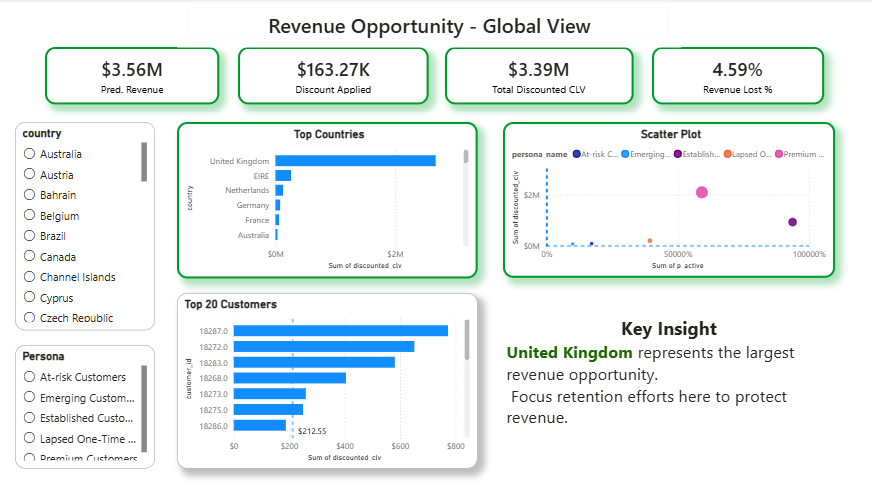

What the dashboard file says about the page in this screenshot:
{"tool":"powerbi","page":{"name":"Revenue Opportunity","canvas":[1280,720],"ordinal":2},"visuals":[{"type":"cardVisual","fields":{"Data":["powerbi fact_customers.Total Predicted Revenue"]},"box":[65.5,70.7,255.2,84.5],"z":0},{"type":"cardVisual","fields":{"Data":["powerbi fact_customers.Discount Applied"]},"box":[348.3,70.7,279.3,84.5],"z":1000},{"type":"cardVisual","fields":{"Data":["powerbi fact_customers.Total Discounted CLV"]},"box":[651.7,70.7,275.9,84.5],"z":2000},{"type":"cardVisual","fields":{"Data":["powerbi fact_customers.Revenue Lost %"]},"box":[953.4,70.7,251.7,84.5],"z":3000},{"type":"clusteredBarChart","title":"Top 20 Customers","fields":{"Category":["powerbi fact_customers.customer_id"],"Y":["Sum(powerbi fact_customers.discounted_clv)"]},"box":[258.7,430.2,439.7,257.1],"z":4000},{"type":"clusteredBarChart","title":"Top Countries","fields":{"Category":["powerbi fact_customers.country"],"Y":["Sum(powerbi fact_customers.discounted_clv)"]},"box":[258.7,179.4,439.7,228.6],"z":5000},{"type":"scatterChart","title":"Scatter Plot","fields":{"X":["Sum(powerbi fact_customers.p_active)"],"Y":["Sum(powerbi fact_customers.discounted_clv)"],"Series":["powerbi fact_customers.persona_name"],"Size":["Sum(powerbi fact_customers.predicted_revenue)"]},"box":[736.1,180,485.9,228.3],"z":6000},{"type":"cardVisual","fields":{"Data":["Measures (2).Revenue Opportunity Title"]},"box":[258.6,0,737.9,70.7],"z":7000},{"type":"textbox","box":[736.5,458.7,485.7,188.9],"z":8000},{"type":"listSlicer","fields":{"Values":["powerbi fact_customers.country"]},"box":[22.2,179.4,204.8,304.8],"z":9000},{"type":"listSlicer","title":"Persona","fields":{"Values":["powerbi fact_customers.persona_name"]},"box":[22.2,506.3,204.8,181],"z":10000}]}

Visuals, with their boxes in screenshot pixels (x1, y1, x2, y2), scaled from the page's 1280x720 canvas onto the 872x490 screenshot:
cardVisual - powerbi fact_customers.Total Predicted Revenue: <bbox>45, 48, 218, 106</bbox>
cardVisual - powerbi fact_customers.Discount Applied: <bbox>237, 48, 428, 106</bbox>
cardVisual - powerbi fact_customers.Total Discounted CLV: <bbox>444, 48, 632, 106</bbox>
cardVisual - powerbi fact_customers.Revenue Lost %: <bbox>650, 48, 821, 106</bbox>
"Top 20 Customers" clusteredBarChart: <bbox>176, 293, 476, 468</bbox>
"Top Countries" clusteredBarChart: <bbox>176, 122, 476, 278</bbox>
"Scatter Plot" scatterChart: <bbox>501, 122, 832, 278</bbox>
cardVisual - Measures (2).Revenue Opportunity Title: <bbox>176, 0, 679, 48</bbox>
textbox: <bbox>502, 312, 833, 441</bbox>
listSlicer - powerbi fact_customers.country: <bbox>15, 122, 155, 330</bbox>
"Persona" listSlicer: <bbox>15, 345, 155, 468</bbox>
